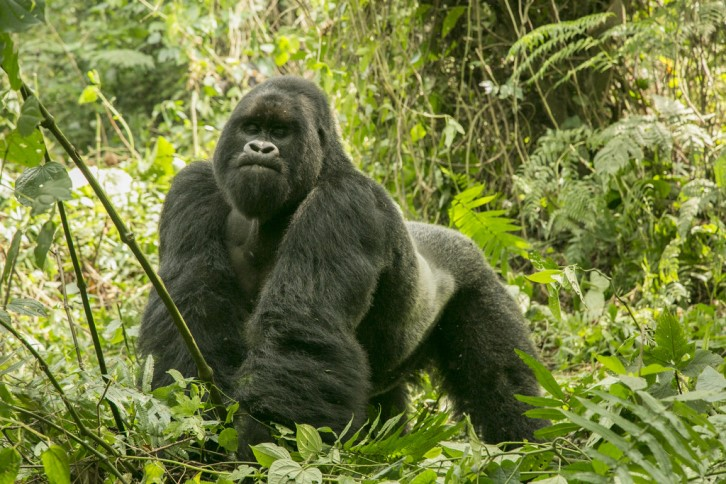Gorilla: (154, 80, 548, 448)
